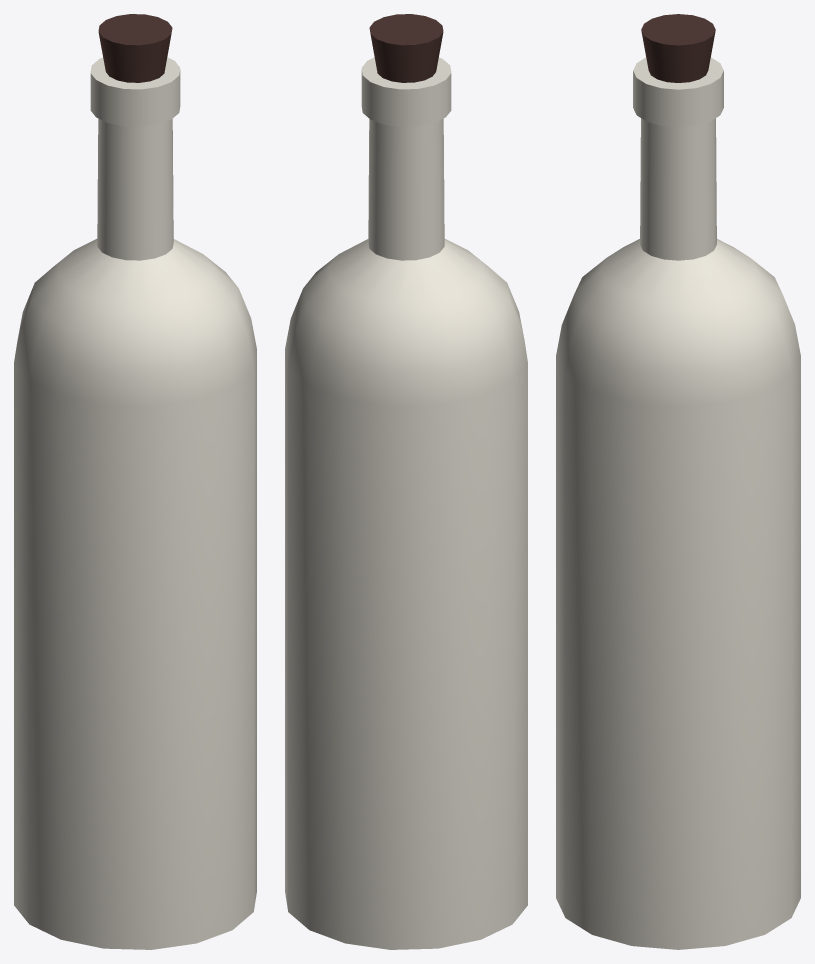
Rendered from Wine bottle.fbx.
3 views of the same model, side by side, from view 1: azimuth 30°, elevation 25°; view 2: azimuth 150°, elevation 25°; view 3: azimuth 270°, elevation 25° (orthographic).
Visible parts, largest first — view 1: Cylinder.006; view 2: Cylinder.006; view 3: Cylinder.006.
Boxes of the visible parts, x1=… form: Cylinder.006: x1=14, y1=14, x2=256, y2=949; Cylinder.006: x1=285, y1=14, x2=527, y2=949; Cylinder.006: x1=556, y1=14, x2=800, y2=949.
Size of the model in its own units: 0.209 by 0.8182 by 0.209.
